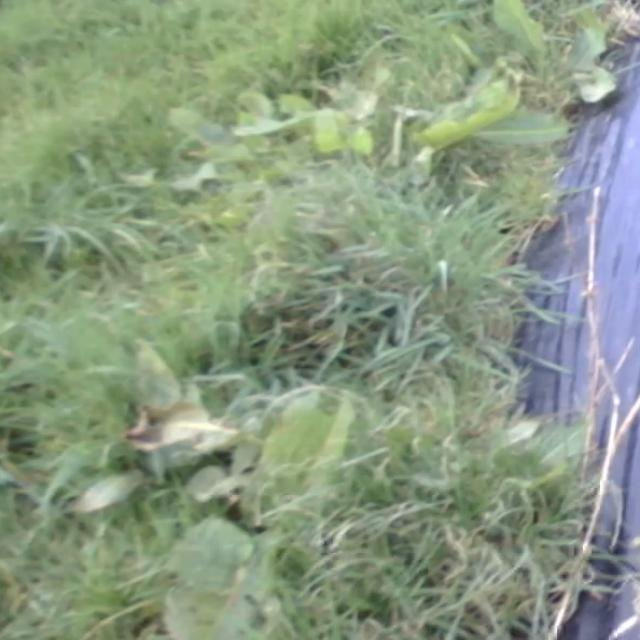organic waste: (37, 331, 557, 640), (119, 49, 570, 220), (58, 318, 269, 500), (176, 56, 358, 167), (489, 0, 640, 116)
